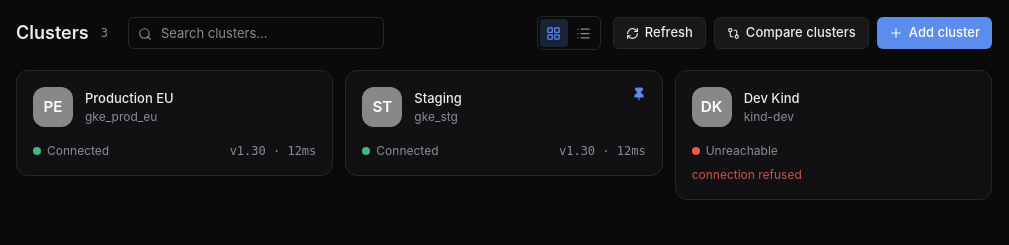
Home layout › works when storage is unavailable
Click the button named "List" at (584, 33), box [570,19,598,47]
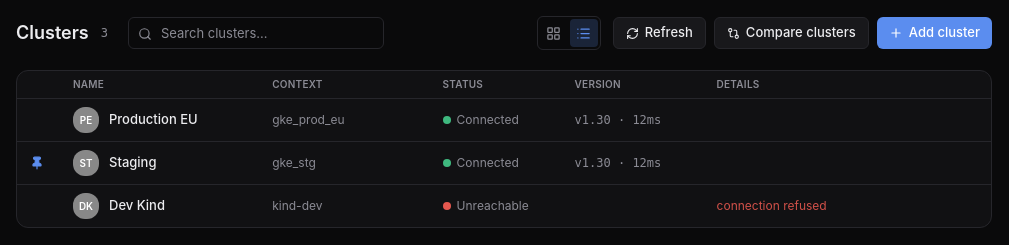
Result: the text "Context" is shown at [272,78,323,90]
